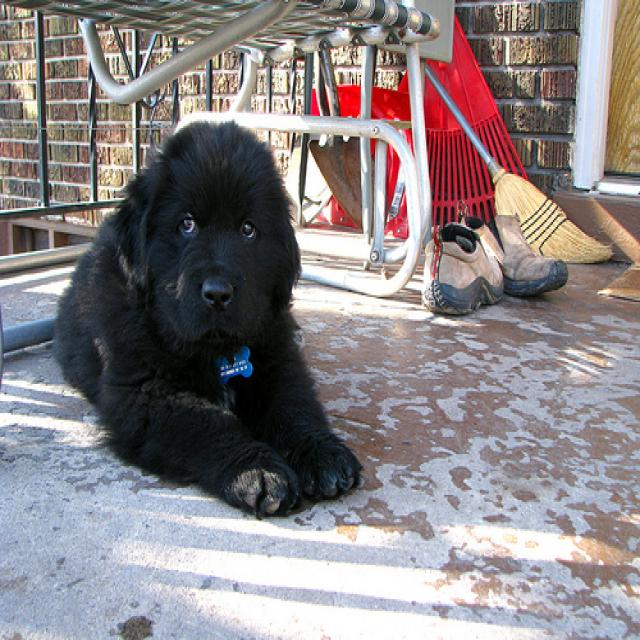dog-newfoundland: (41, 108, 372, 519)
